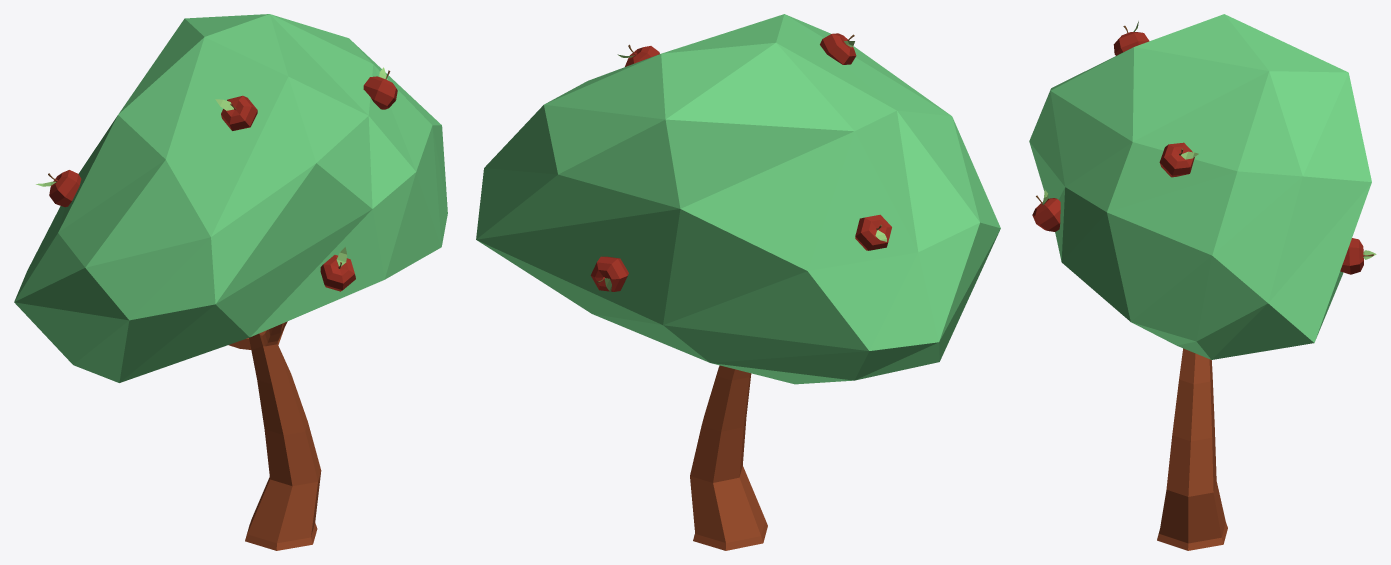
File: AppleTree_Adult.fbx
3 views of the same model, side by side, from view 1: azimuth 30°, elevation 25°; view 2: azimuth 150°, elevation 25°; view 3: azimuth 270°, elevation 25° (orthographic). The views are drawn at different scales.
Parts seen in each view (by area): view 1: AppleTreeModel; view 2: AppleTreeModel; view 3: AppleTreeModel.
Boxes of the visible parts, box(x1,y1,x2,y2) form: AppleTreeModel: box(14, 14, 447, 550); AppleTreeModel: box(476, 14, 1000, 550); AppleTreeModel: box(1029, 14, 1376, 550).
Bounding box in the file's own units: 1190 × 1315 × 842.
